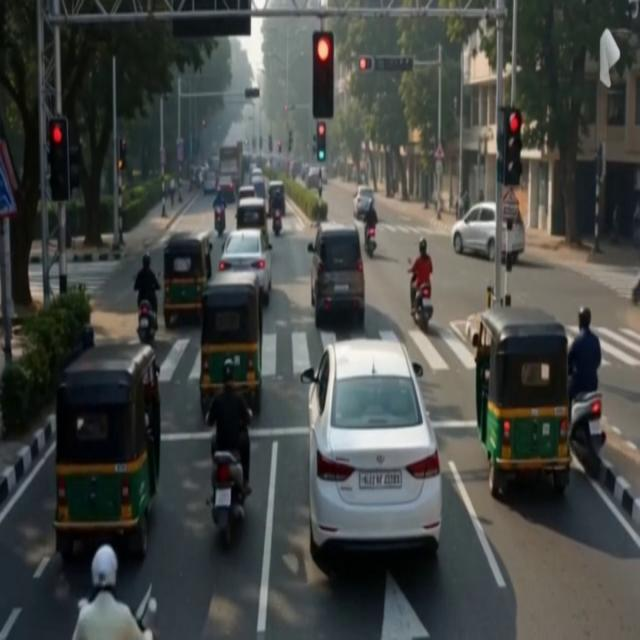car: (301, 339, 442, 562), (308, 223, 364, 328), (219, 229, 271, 305), (451, 202, 496, 261), (353, 186, 374, 219), (218, 175, 236, 204), (251, 176, 267, 199), (305, 167, 319, 189), (203, 171, 216, 194), (238, 185, 255, 200), (251, 167, 262, 177)
scooty: (211, 451, 245, 548), (570, 392, 606, 475), (411, 280, 433, 331), (136, 587, 157, 639), (137, 301, 156, 345), (365, 226, 376, 258), (214, 206, 225, 237), (272, 208, 282, 236), (631, 280, 639, 304)
traffic signal: (312, 32, 334, 119), (48, 117, 70, 202), (503, 108, 522, 186), (69, 139, 80, 193), (316, 122, 326, 162), (118, 139, 126, 171), (359, 56, 373, 71), (245, 88, 259, 99), (288, 130, 293, 153), (268, 135, 272, 152), (252, 136, 256, 151), (313, 134, 316, 153), (277, 141, 281, 153), (259, 136, 262, 151), (202, 119, 205, 127)
truck: (219, 144, 241, 190)
